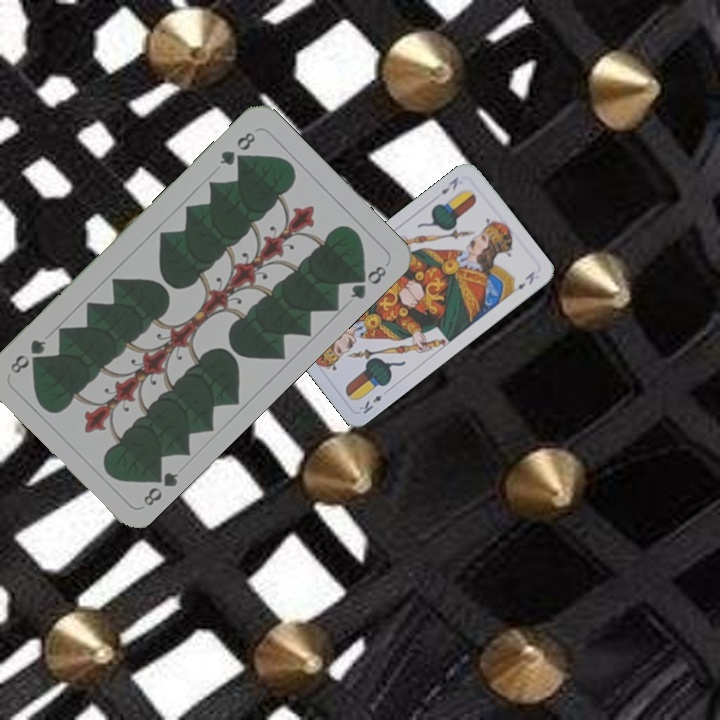EK: (355, 391, 385, 417), (437, 173, 461, 197)
G8: (139, 464, 182, 509), (215, 127, 259, 169)
